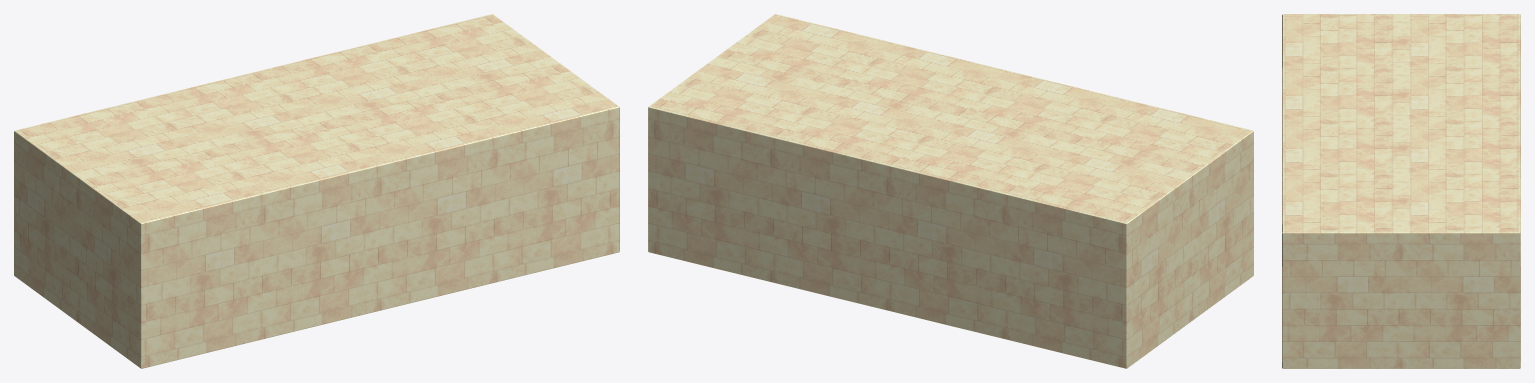
The model's file is Sm_large_block.glb.
3 views of the same model, side by side, from view 1: azimuth 30°, elevation 25°; view 2: azimuth 150°, elevation 25°; view 3: azimuth 270°, elevation 25° (orthographic). The views are drawn at different scales.
Parts seen in each view (by area): view 1: Sm_large_block; view 2: Sm_large_block; view 3: Sm_large_block.
Boxes of the visible parts, x1,y1,x2,y2 form: Sm_large_block: (14,14,619,368); Sm_large_block: (648,14,1253,368); Sm_large_block: (1282,14,1520,368).
Bounding box in the file's own units: 16.51 × 4.8 × 7.6.
1 material, 1 textured.
